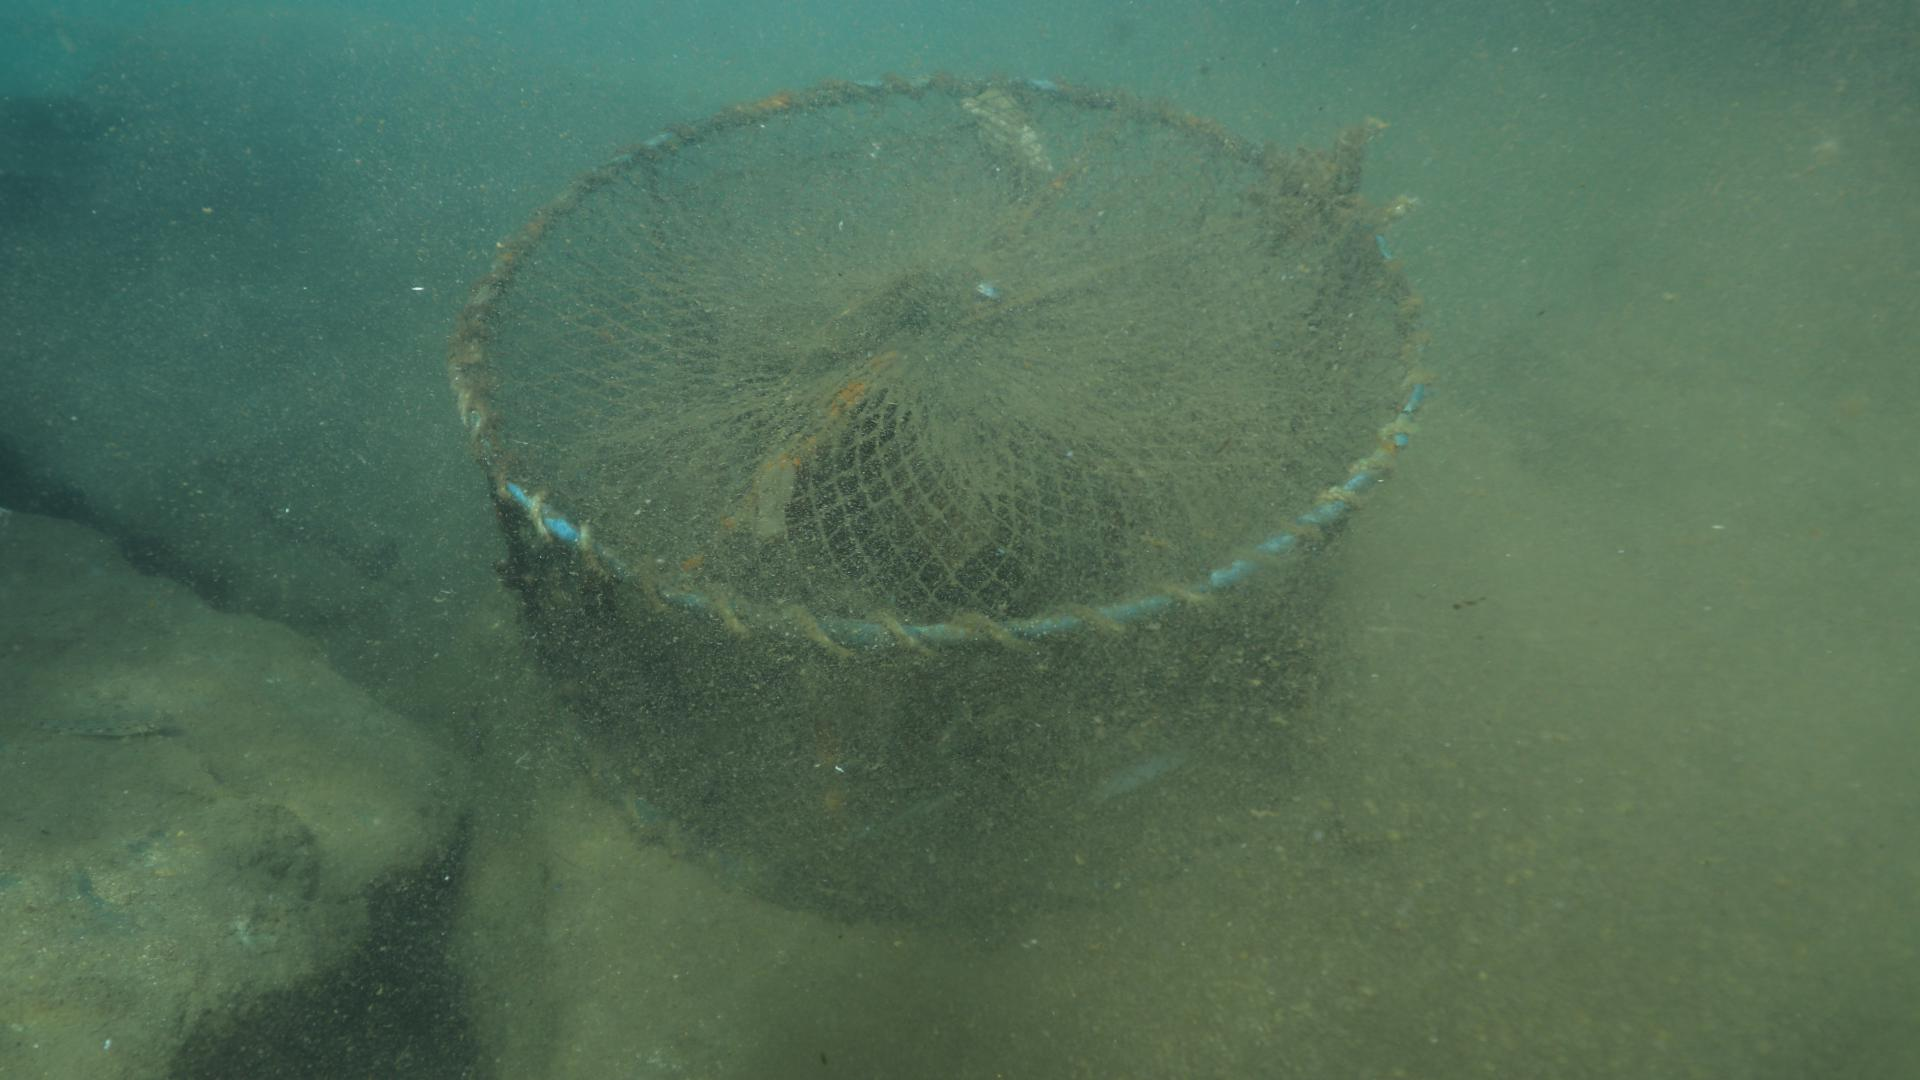circular fish trap: (444, 71, 1433, 922)
